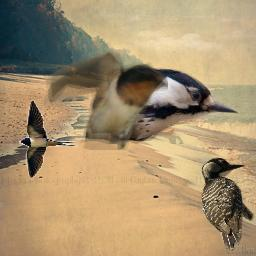Swallow: (44, 50, 168, 150), (19, 99, 79, 180)
Woodpecker: (107, 62, 238, 144), (201, 157, 256, 252)
